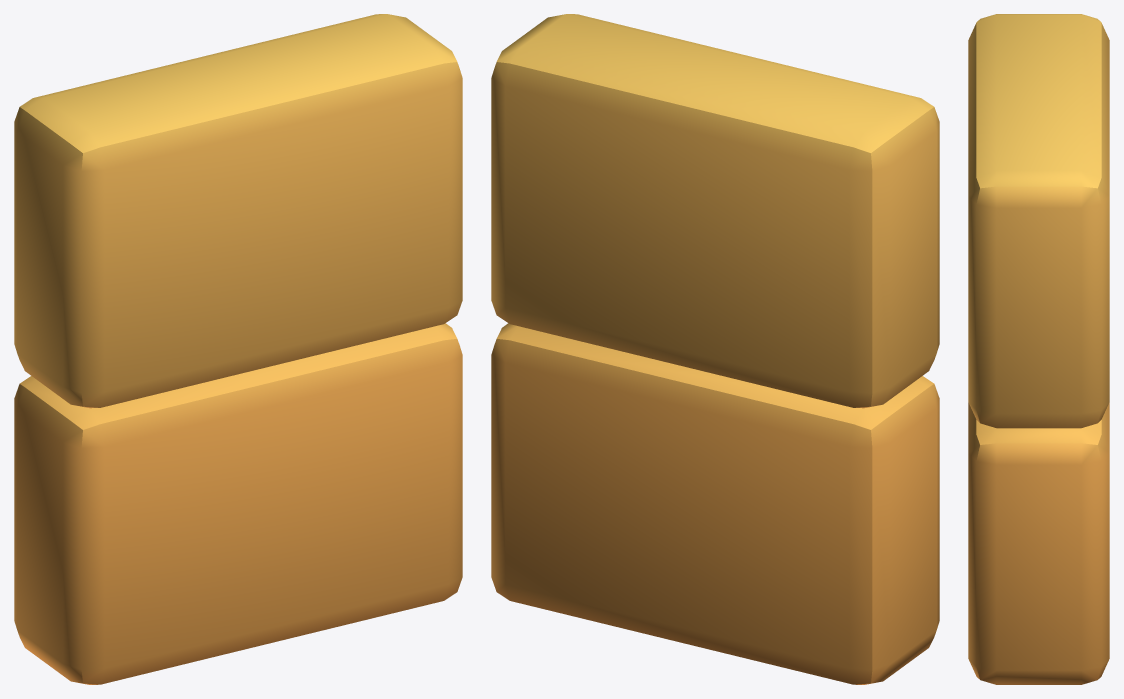
File: barrier_3x1x4_yellow.glb
The picture shows the model from 3 angles, left to right: view 1: azimuth 30°, elevation 25°; view 2: azimuth 150°, elevation 25°; view 3: azimuth 270°, elevation 25°; orthographic projection. The views are drawn at different scales.
Parts seen in each view (by area): view 1: barrier_3x1x4_yellow; view 2: barrier_3x1x4_yellow; view 3: barrier_3x1x4_yellow.
Boxes of the visible parts, bbox=[...] form: barrier_3x1x4_yellow: bbox=[14, 14, 462, 684]; barrier_3x1x4_yellow: bbox=[491, 14, 939, 684]; barrier_3x1x4_yellow: bbox=[968, 14, 1109, 684].
Size of the model in its own units: 3 by 4 by 1.
1 material, 1 textured.
